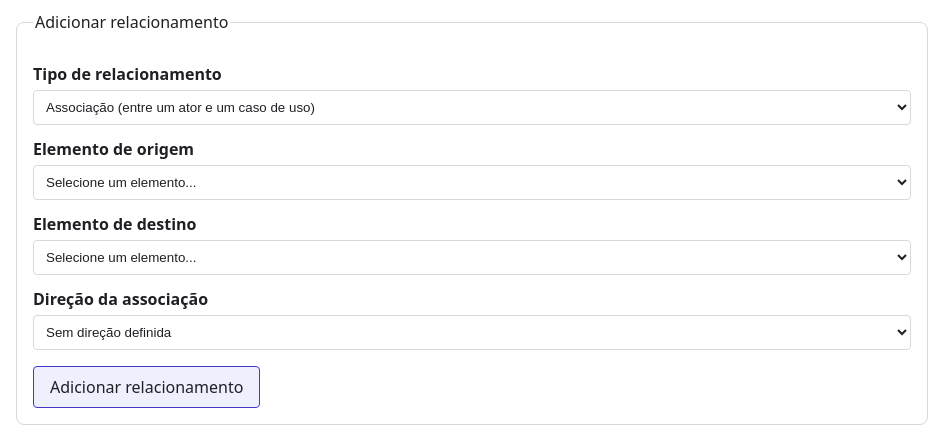
Test: RelationshipForm › só mostra o campo de direção quando o tipo é Associação
Expected: the dropdown labelled "Direção da associação" is shown, left=33, top=315, right=911, bottom=350
Select "Inclusão <<include>> (entre dois casos de uso)" in the dropdown labelled "Tipo de relacionamento" at (472, 108), box left=33, top=90, right=911, bottom=125
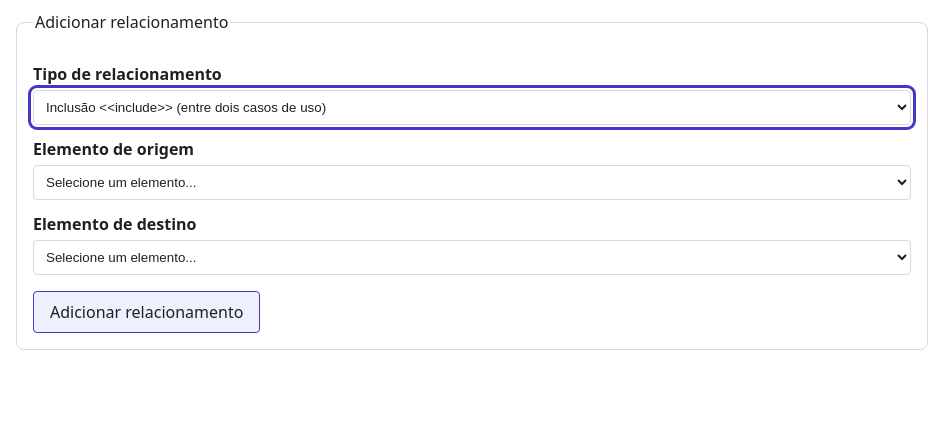
Expected: the label labelled "Direção da associação" is gone
